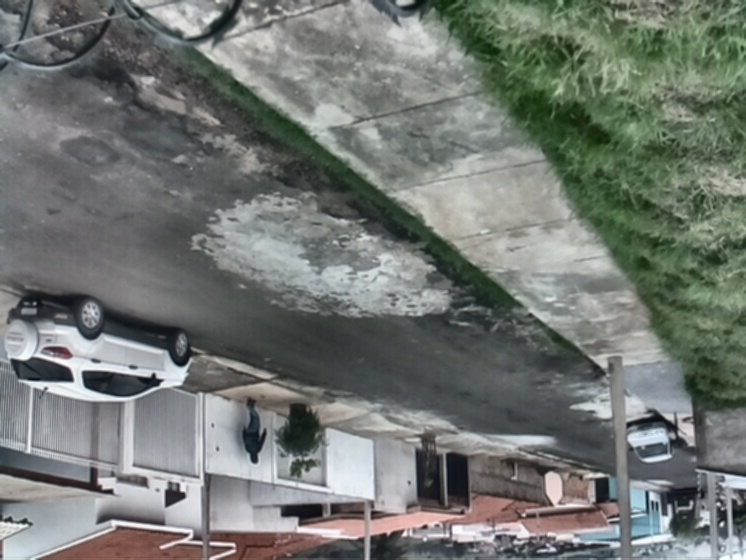person: (239, 395, 269, 465)
